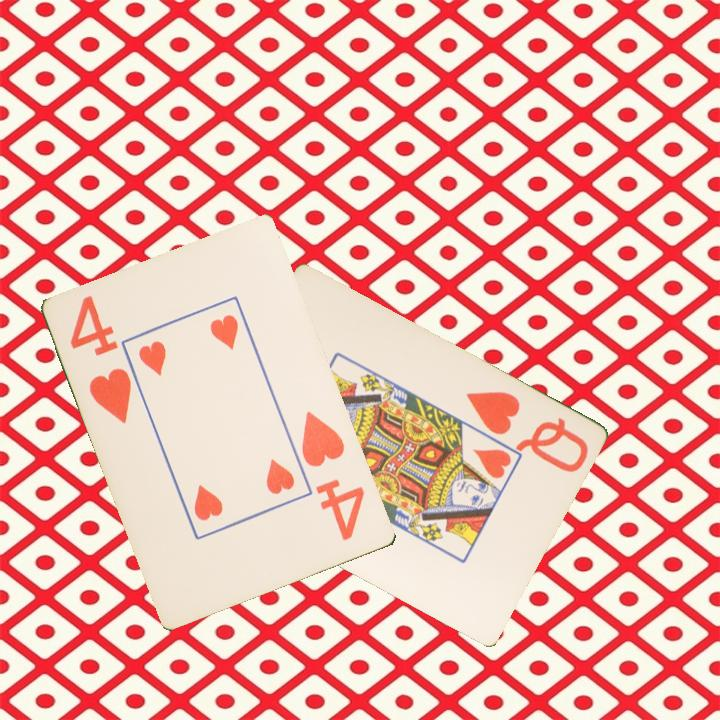4h: (298, 407, 369, 544), (67, 292, 135, 427)
Qh: (461, 387, 591, 476)
